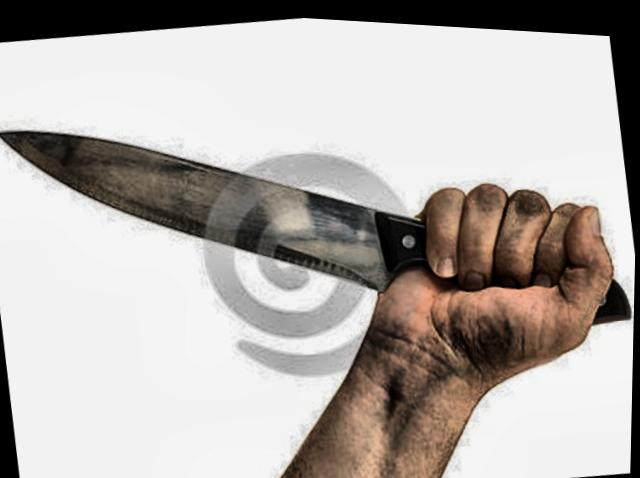knife: (0, 31, 639, 415)
